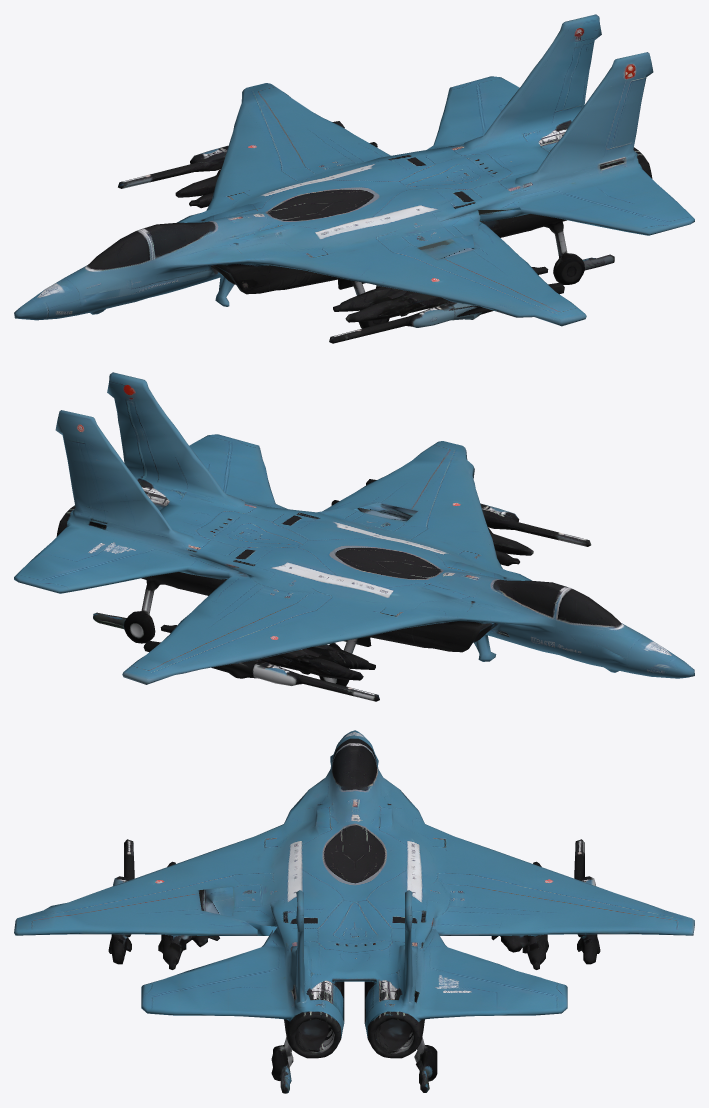
File: jet.glb
3 views of the same model, one above another, from view 1: azimuth 30°, elevation 25°; view 2: azimuth 150°, elevation 25°; view 3: azimuth 270°, elevation 25° (orthographic). The views are drawn at different scales.
Bounding box in the file's own units: 1.91 × 0.6067 × 1.72.
1 material, 1 textured.
